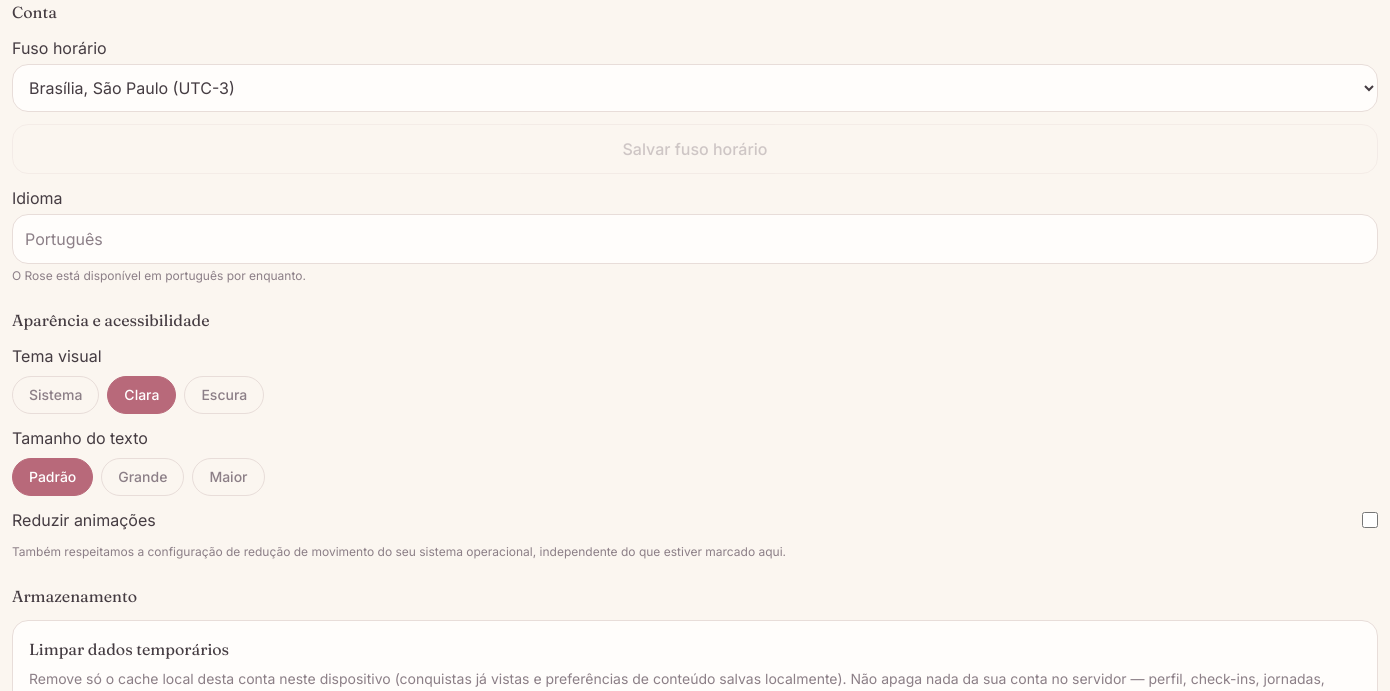
Test case: ConfiguracoesForm › limpar dados temporários não remove as preferências de aparência do dispositivo
Click the button "Maior".
click(228, 477)  # box [192,458,264,496]
(page scrolled)
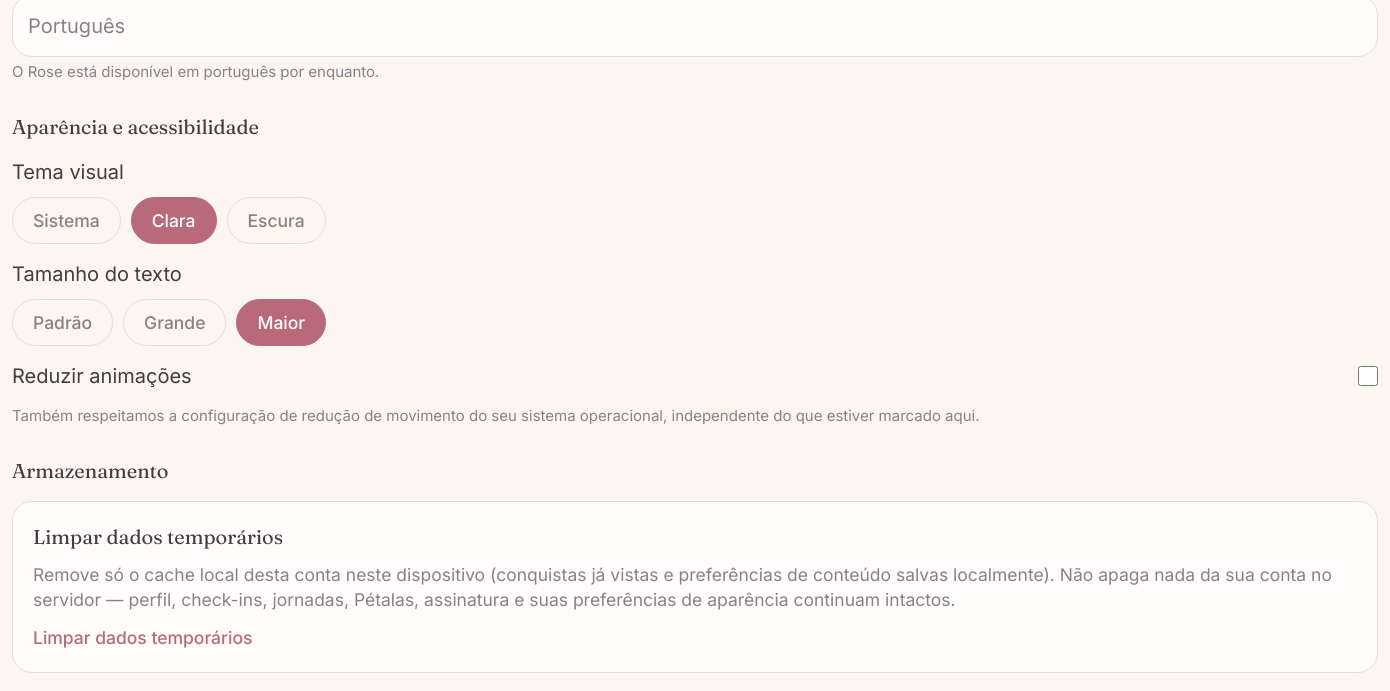
Click the button "Limpar dados temporários".
click(143, 638)  # box [33,625,252,650]
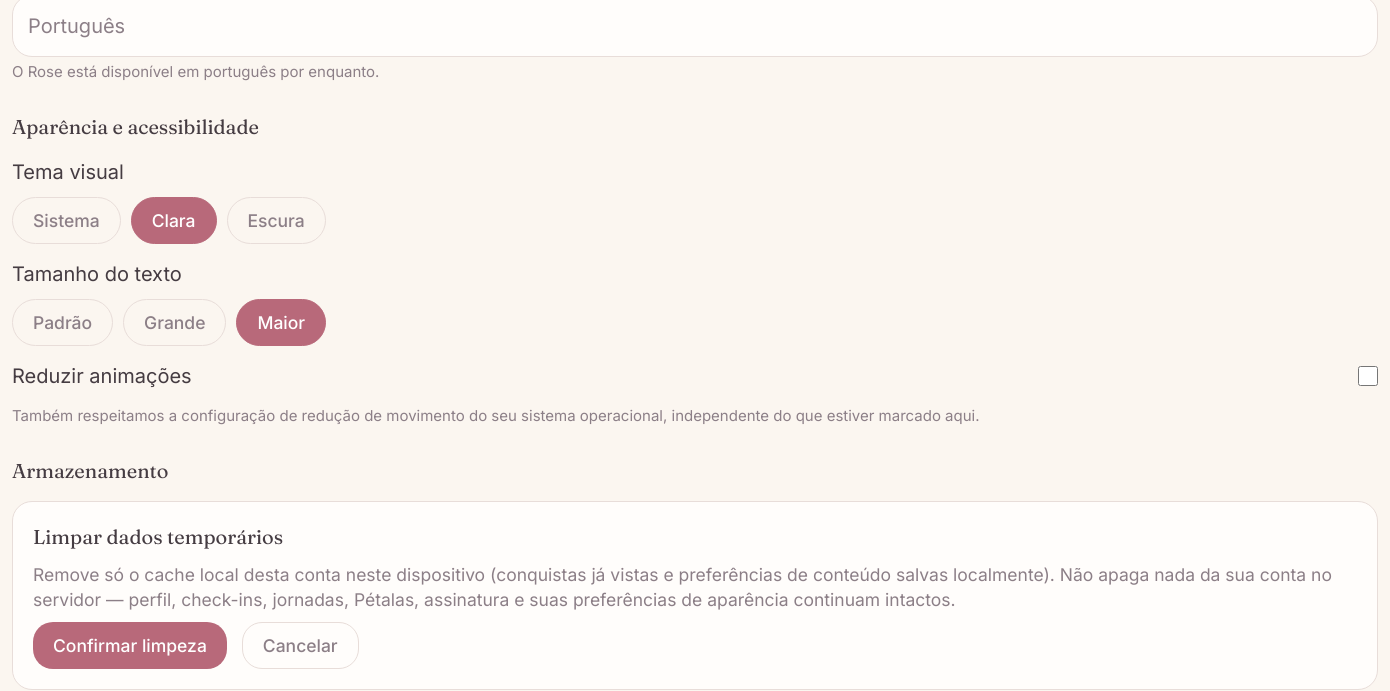
Click the button "Confirmar limpeza".
click(130, 646)  # box [33,622,227,669]
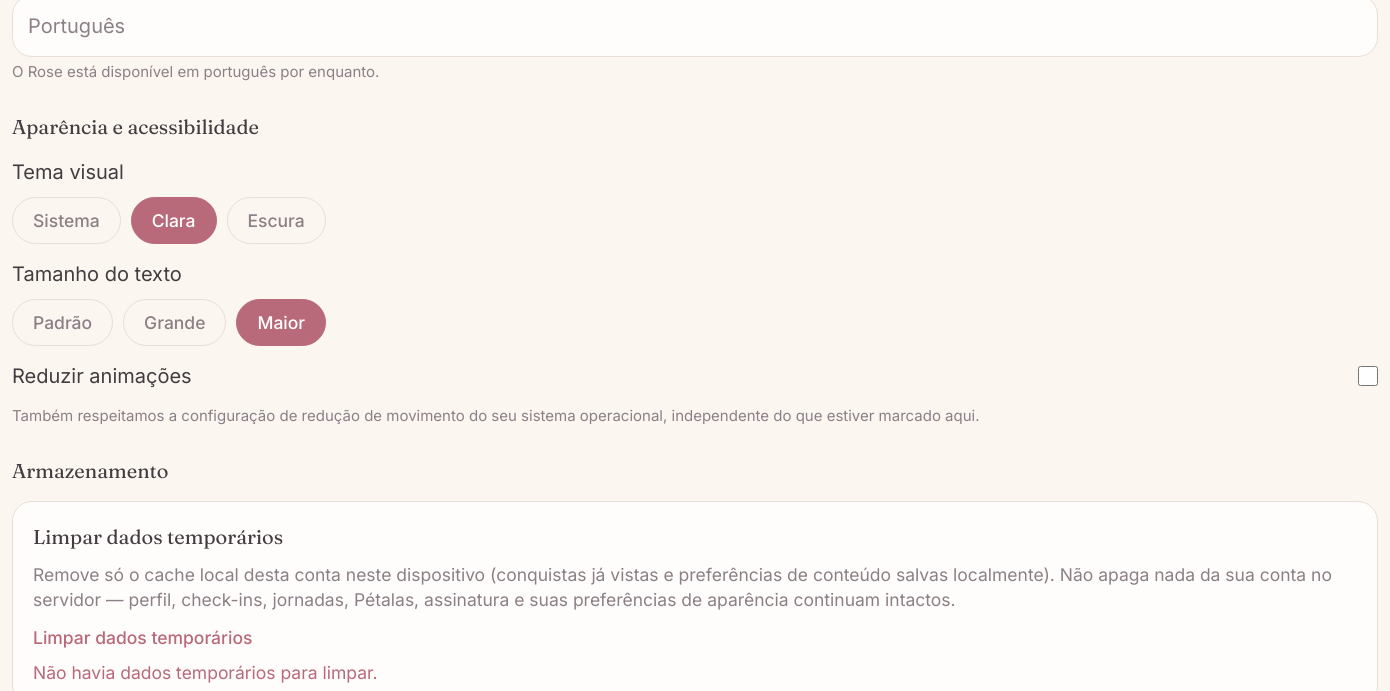
Expected: the message reads "Não havia dados temporários para limpar.", [33,662,378,683]
